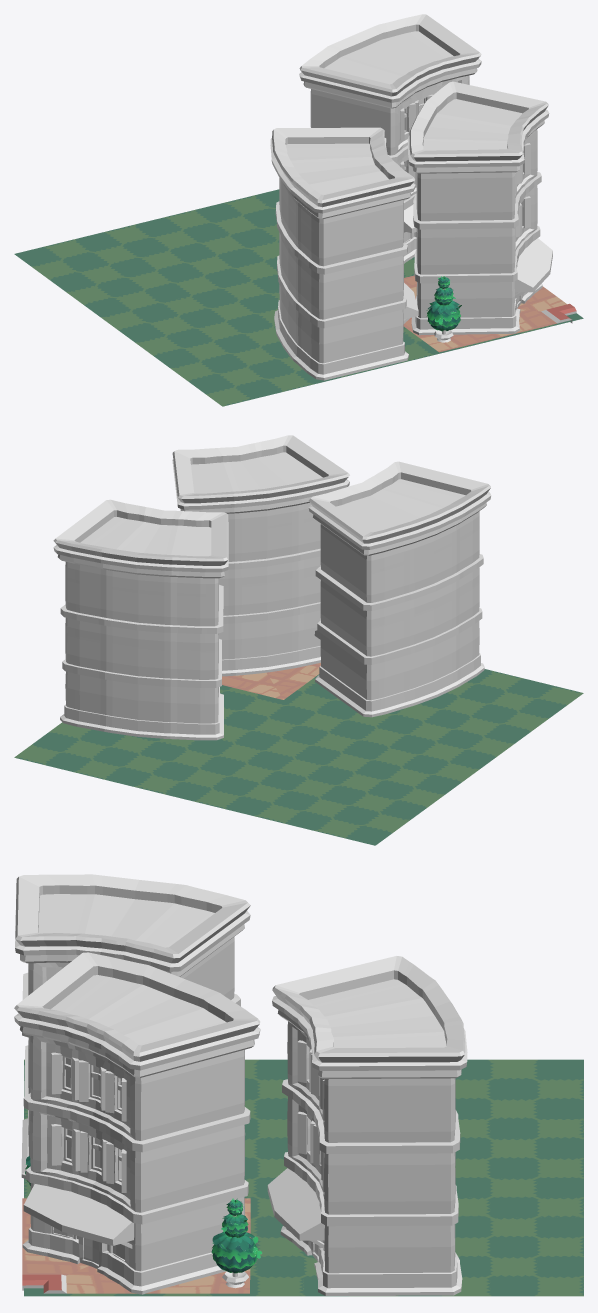
The model's file is Model_BorderCorner.fbx.
The picture shows the model from 3 angles, top to bottom: view 1: azimuth 30°, elevation 25°; view 2: azimuth 150°, elevation 25°; view 3: azimuth 270°, elevation 25°; orthographic projection. The views are drawn at different scales.
Parts seen in each view (by area): view 1: Plane.014, Cube.032, Cube.044, Cube.005, Plane.025, Sphere.001; view 2: Plane.014, Cube.032, Cube.005, Cube.044, Plane.025; view 3: Cube.044, Cube.005, Plane.014, Cube.032, Plane.025, Sphere.008.
Boxes of the visible parts, box(x1,y1,x2,y2) form: Plane.014: box(14, 189, 583, 406); Cube.032: box(270, 127, 418, 380); Cube.044: box(407, 81, 552, 335); Cube.005: box(299, 14, 481, 263); Plane.025: box(403, 275, 576, 352); Sphere.001: box(426, 276, 461, 342); Plane.014: box(14, 669, 583, 845); Cube.032: box(308, 461, 491, 717); Cube.005: box(53, 499, 228, 740); Cube.044: box(172, 435, 349, 676); Plane.025: box(222, 663, 320, 699); Cube.044: box(14, 952, 260, 1294); Cube.005: box(267, 956, 467, 1295); Plane.014: box(24, 1059, 583, 1296); Cube.032: box(15, 874, 250, 1178); Plane.025: box(22, 1198, 250, 1293); Sphere.008: box(211, 1198, 261, 1288).
Bounding box in the file's own units: 2450 × 1185 × 2442.
